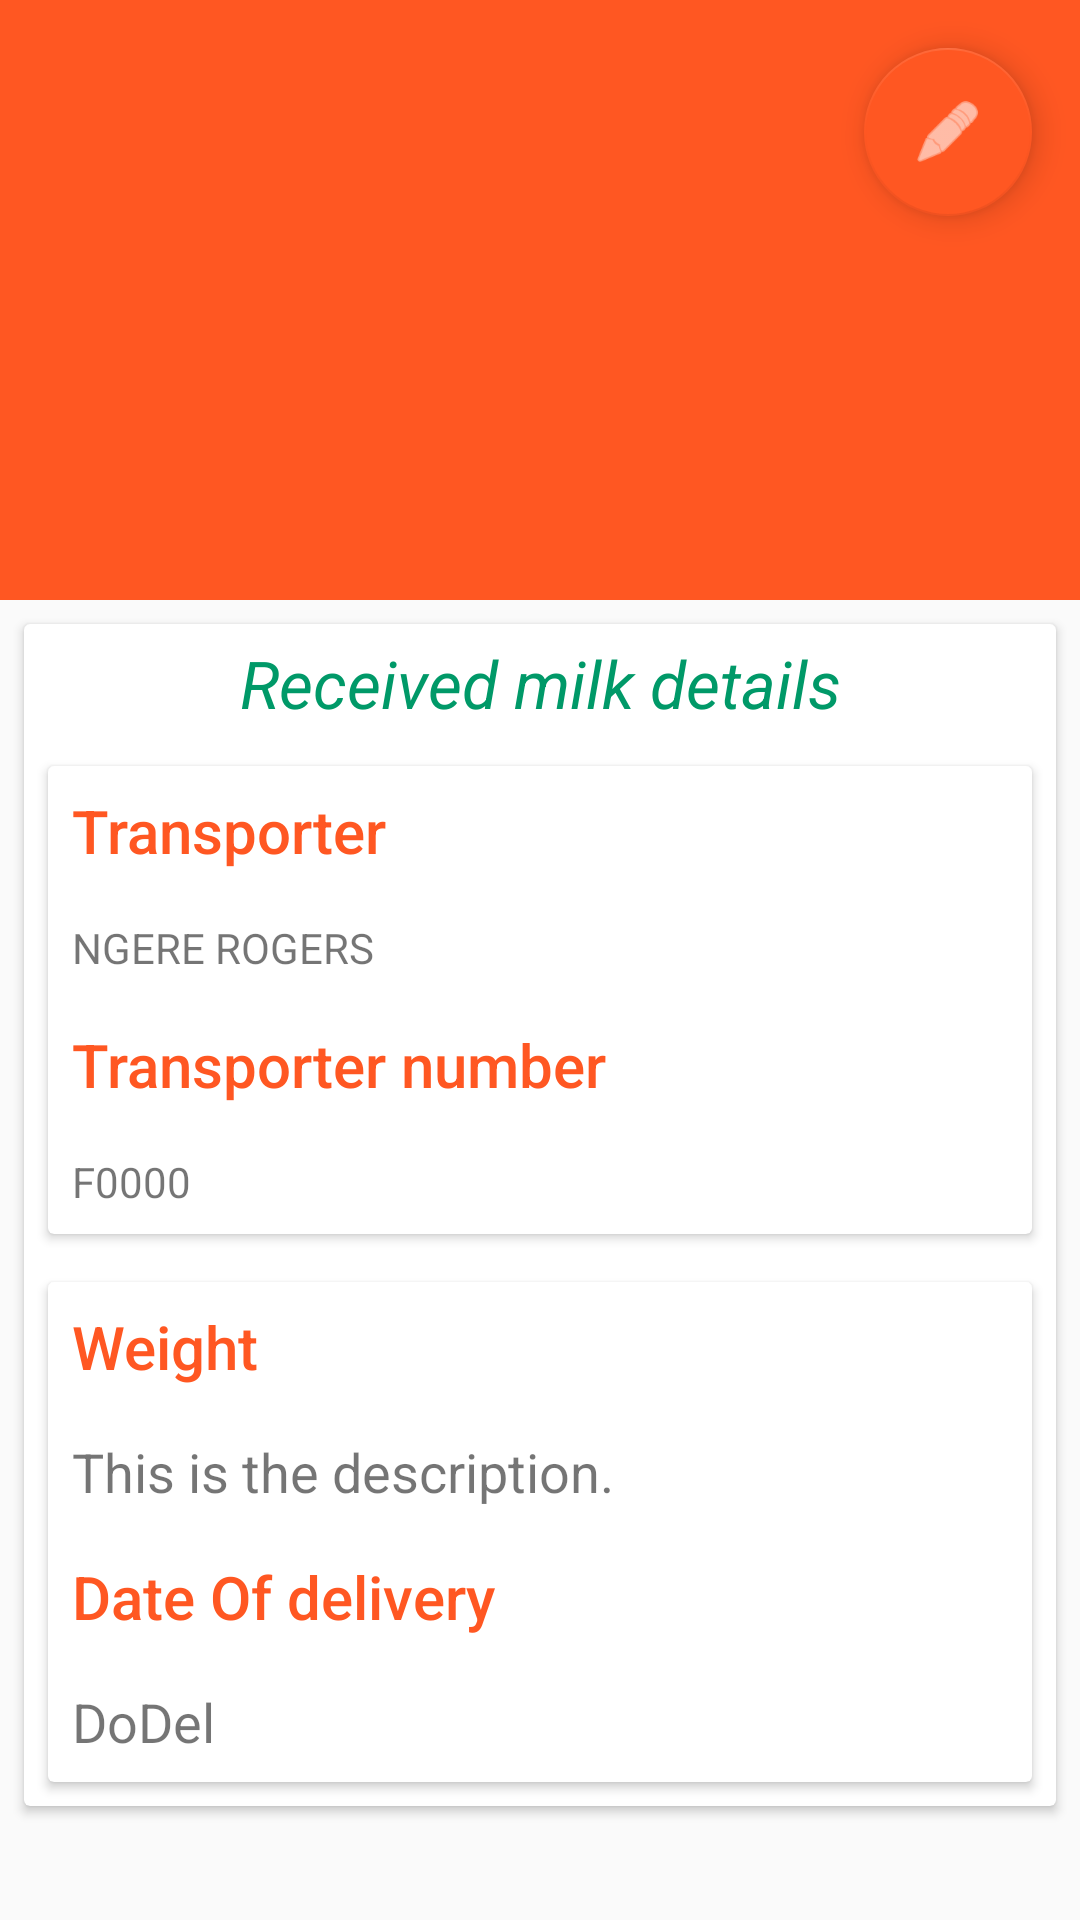

Icon click points for this 1080*1920 phone screenshot, format point (x, y):
edit: point (974, 132)
